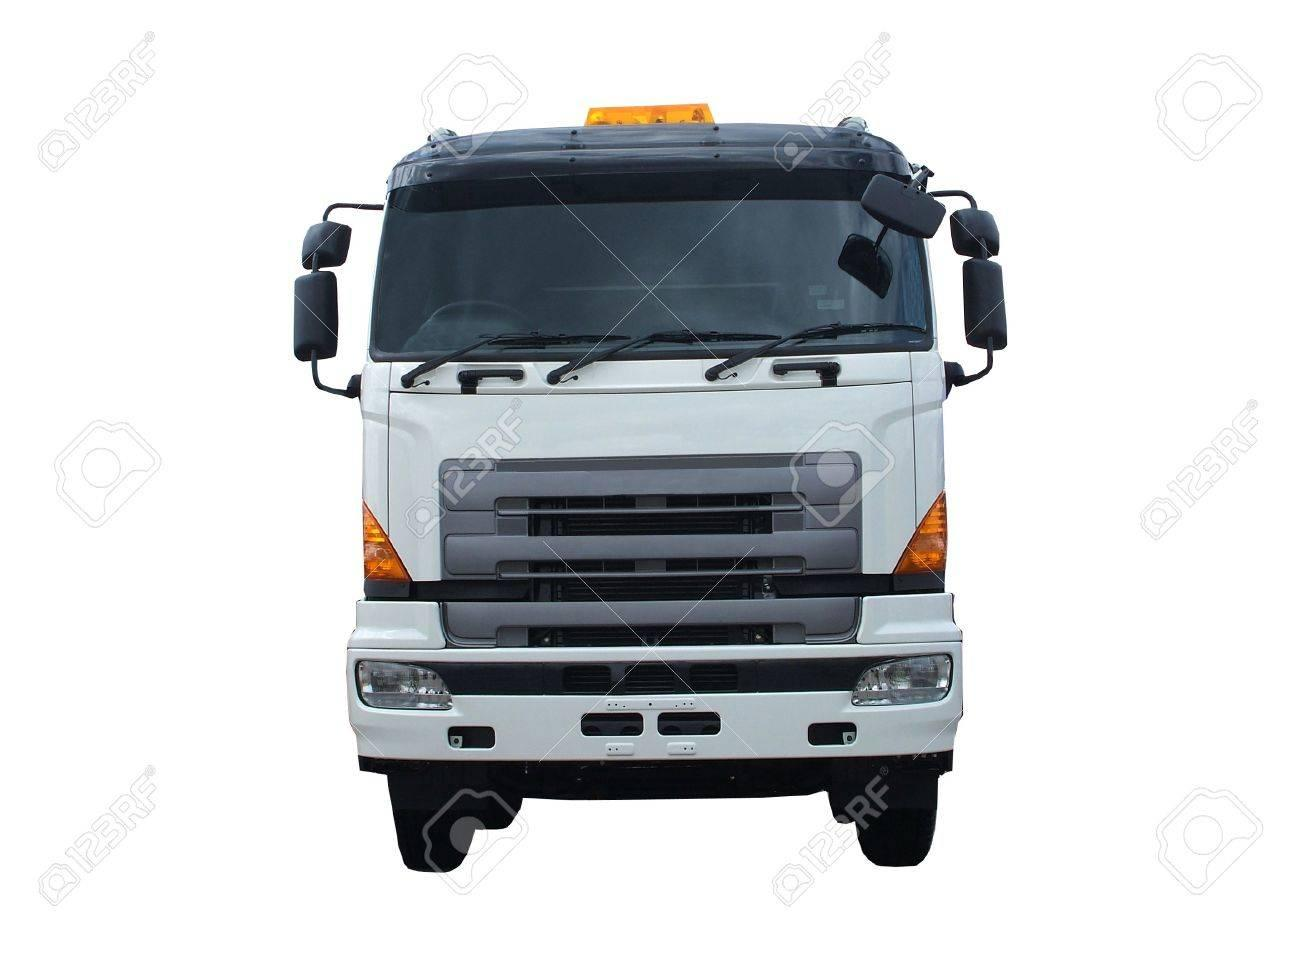truck: (296, 103, 1004, 873)
